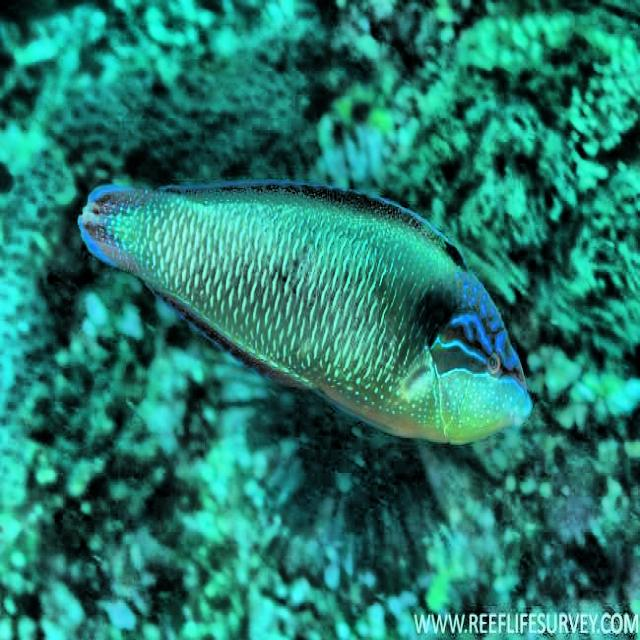fish: (77, 176, 533, 446)
